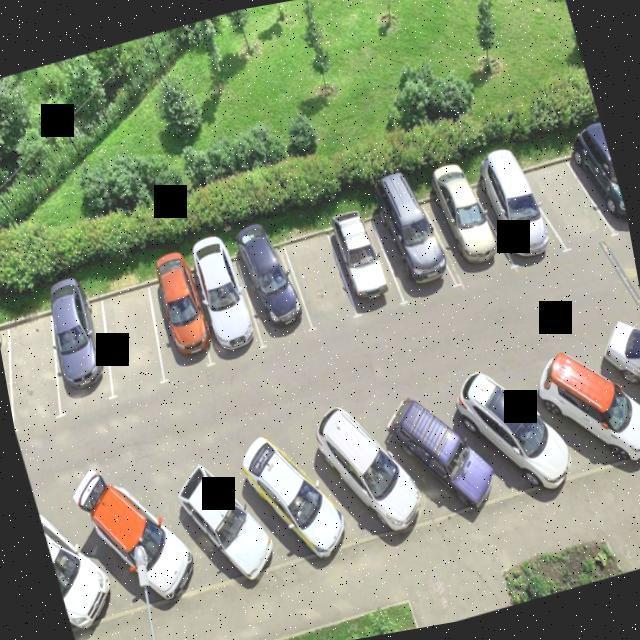car: (130, 252, 224, 386), (32, 286, 126, 418), (471, 154, 554, 276), (422, 171, 506, 287), (234, 230, 312, 354), (375, 197, 454, 309), (188, 245, 262, 362), (327, 210, 405, 321)
free: (89, 273, 170, 400), (522, 146, 606, 265), (276, 224, 356, 338), (0, 306, 68, 424)
